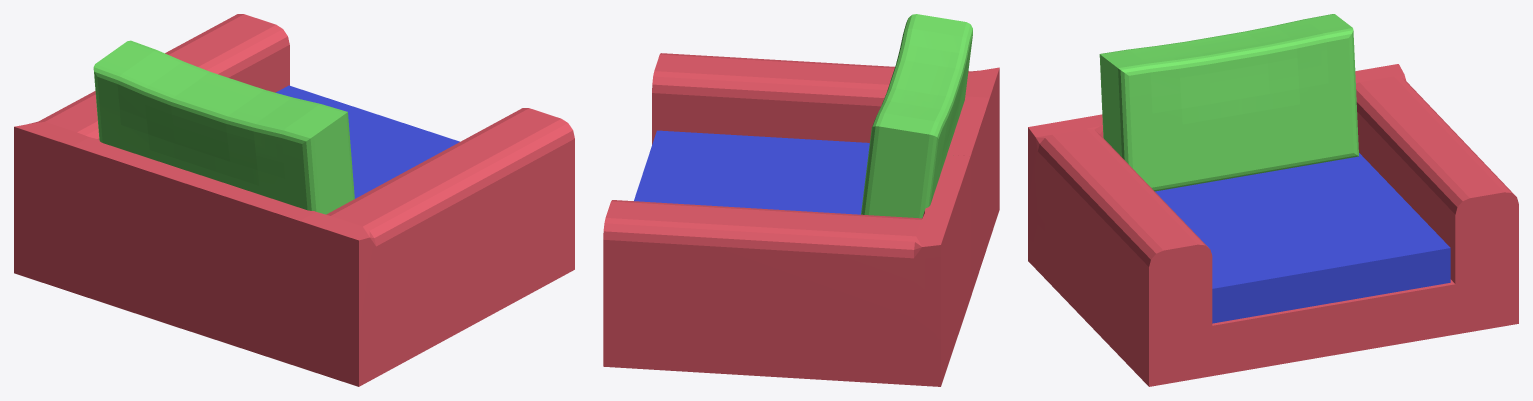
The model's file is Armchair1.fbx.
3 views of the same model, side by side, from view 1: azimuth 30°, elevation 25°; view 2: azimuth 150°, elevation 25°; view 3: azimuth 270°, elevation 25° (orthographic). The views are drawn at different scales.
Parts seen in each view (by area): view 1: Small_Couch, SCouch_Pillow2, SCouch_Pillow1; view 2: Small_Couch, SCouch_Pillow1, SCouch_Pillow2; view 3: Small_Couch, SCouch_Pillow2, SCouch_Pillow1.
Part boxes in pixels (left/top/right/bottom): Small_Couch: left=14, top=14, right=574, bottom=386; SCouch_Pillow2: left=93, top=40, right=354, bottom=214; SCouch_Pillow1: left=276, top=85, right=459, bottom=198; Small_Couch: left=603, top=53, right=999, bottom=386; SCouch_Pillow1: left=634, top=130, right=869, bottom=214; SCouch_Pillow2: left=861, top=14, right=972, bottom=218; Small_Couch: left=1028, top=64, right=1518, bottom=386; SCouch_Pillow2: left=1099, top=14, right=1358, bottom=191; SCouch_Pillow1: left=1155, top=153, right=1450, bottom=323.
Size of the model in its own units: 261 by 135 by 286.
